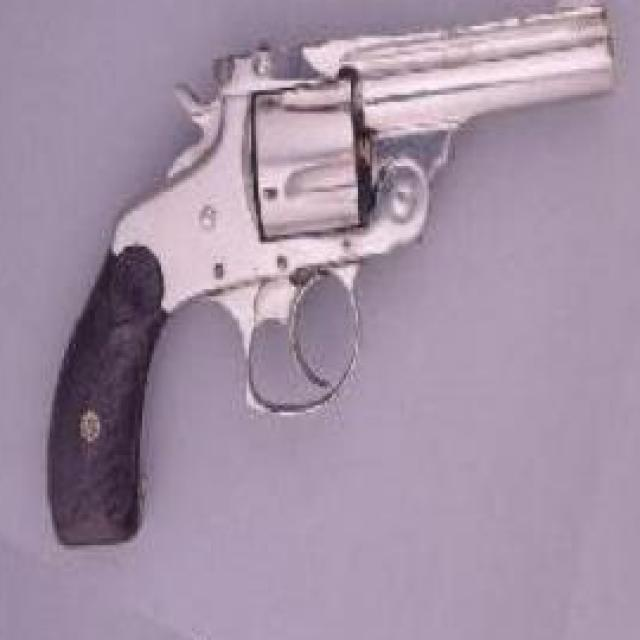pistol: (43, 0, 616, 550)
